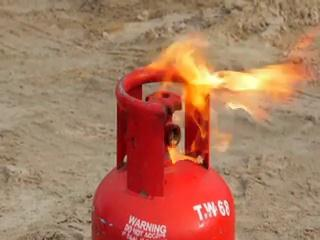Fire: (136, 6, 296, 170)
